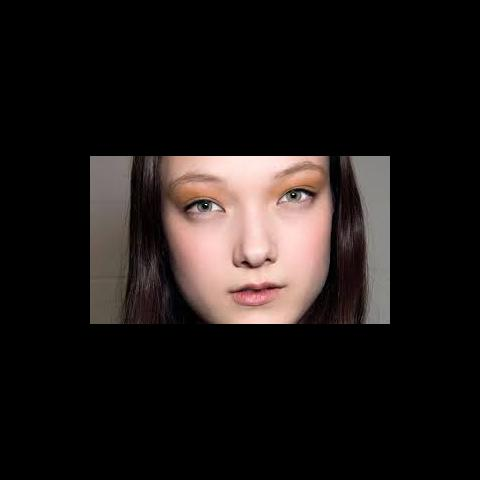opened: (172, 171, 320, 224)
